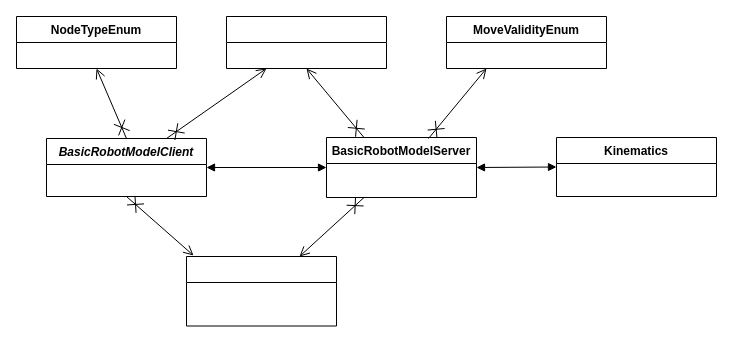
Some shapes in this 733 by 342 pixel diagram are drawn without their labels. The shapes that lost their labels are listed below. From the top down, each one's box as (x1, y1, x2, y2) in pixels, then its label:
(226, 16, 386, 68): MovementModeEnum
(186, 256, 336, 326): Message
